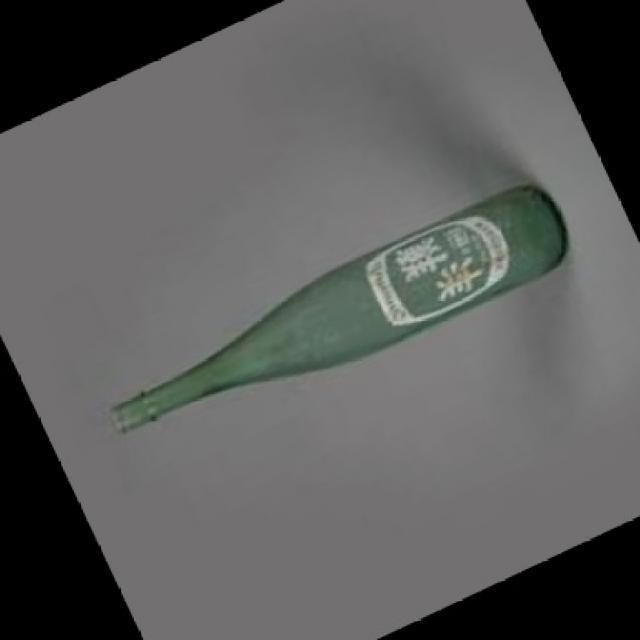Glass: (107, 184, 568, 436)
